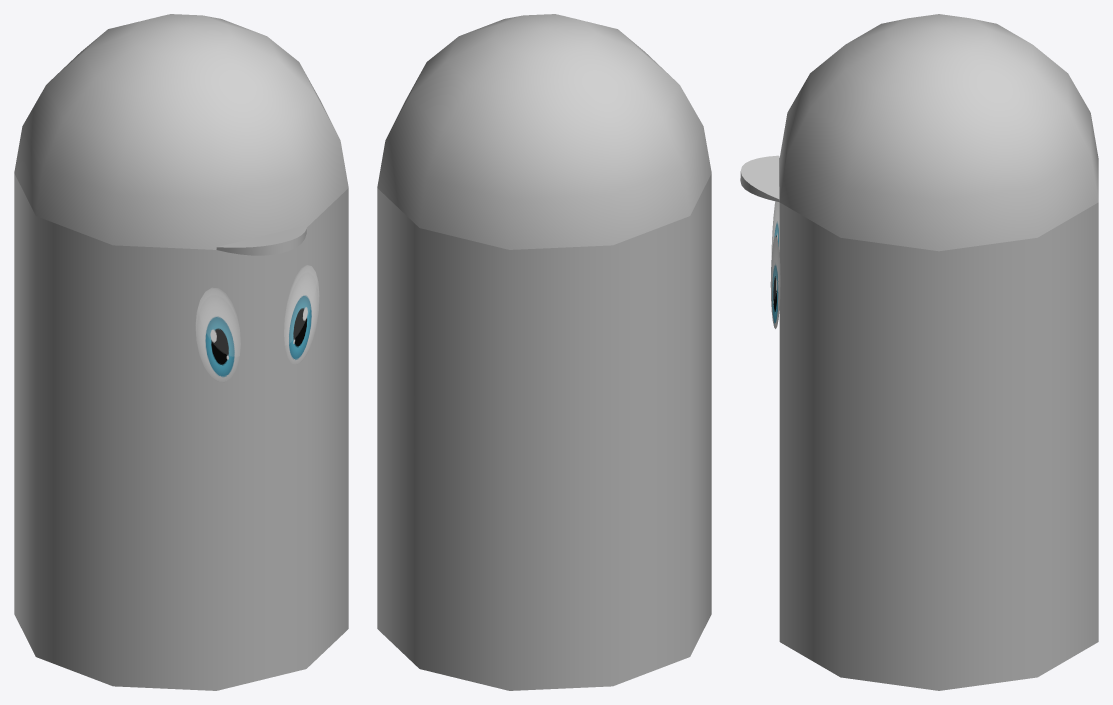
Rendered from Green.fbx.
3 views of the same model, side by side, from view 1: azimuth 30°, elevation 25°; view 2: azimuth 150°, elevation 25°; view 3: azimuth 270°, elevation 25° (orthographic).
Parts seen in each view (by area): view 1: Capsule001, Object, Cylinder001, Cylinder002, Arc001; view 2: Capsule001, Object; view 3: Capsule001, Object, Arc001, Cylinder002.
Part boxes in pixels (x1,y1,x2,y2): Capsule001: [14, 174, 348, 690]; Object: [14, 14, 348, 249]; Cylinder001: [195, 287, 240, 382]; Cylinder002: [284, 265, 319, 364]; Arc001: [216, 225, 306, 255]; Capsule001: [377, 174, 711, 690]; Object: [377, 14, 711, 249]; Capsule001: [779, 202, 1098, 690]; Object: [779, 14, 1098, 251]; Arc001: [740, 155, 779, 202]; Cylinder002: [770, 236, 780, 328].
Size of the model in its own units: 60 by 117 by 64.08.
